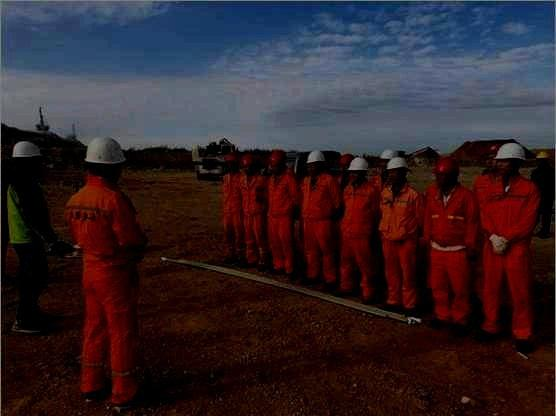helmet: (83, 135, 125, 182), (493, 142, 526, 176), (11, 141, 42, 173), (432, 154, 460, 189), (386, 156, 410, 185), (347, 157, 369, 185), (305, 150, 325, 175), (378, 149, 397, 172), (268, 150, 286, 173), (337, 153, 354, 173), (242, 155, 257, 174), (222, 154, 237, 171), (535, 151, 548, 159)
